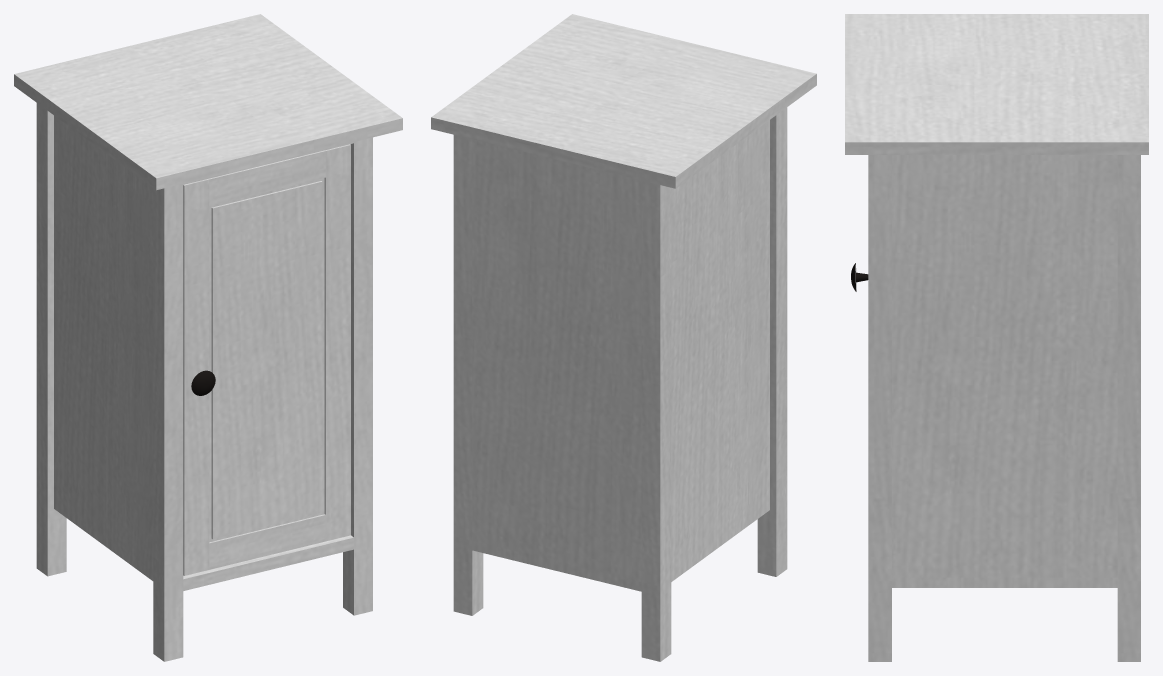
3 renders of one model, left to right at view 1: azimuth 30°, elevation 25°; view 2: azimuth 150°, elevation 25°; view 3: azimuth 270°, elevation 25°, orthographic. The views are drawn at different scales.
Visible parts, largest first — view 1: Mesh1 dvere Model, Mesh2 KORPUS Model, Mesh3 PL_T Model, Mesh9 Group_54_3 Model, Mesh7 Group_54_1 Model, Mesh10 Group_54_4 Model; view 2: Mesh2 KORPUS Model, Mesh3 PL_T Model, Mesh10 Group_54_4 Model, Mesh8 Group_54_2 Model, Mesh9 Group_54_3 Model; view 3: Mesh2 KORPUS Model, Mesh3 PL_T Model, Mesh7 Group_54_1 Model, Mesh8 Group_54_2 Model.
Boxes of the visible parts, x1,y1,x2,y2 form: Mesh1 dvere Model: (183, 144, 350, 575); Mesh2 KORPUS Model: (54, 115, 353, 590); Mesh3 PL_T Model: (14, 14, 402, 190); Mesh9 Group_54_3 Model: (153, 184, 183, 661); Mesh7 Group_54_1 Model: (343, 137, 372, 615); Mesh10 Group_54_4 Model: (36, 103, 66, 576); Mesh2 KORPUS Model: (472, 120, 769, 591); Mesh3 PL_T Model: (431, 14, 816, 188); Mesh10 Group_54_4 Model: (641, 180, 671, 661); Mesh8 Group_54_2 Model: (453, 135, 483, 615); Mesh9 Group_54_3 Model: (757, 107, 787, 576); Mesh2 KORPUS Model: (892, 155, 1117, 587); Mesh3 PL_T Model: (845, 14, 1148, 154); Mesh7 Group_54_1 Model: (868, 155, 891, 661); Mesh8 Group_54_2 Model: (1117, 155, 1140, 661).
Bounding box in the file's own units: 390 × 750 × 390.
Materials: 3 (1 with a texture image).
